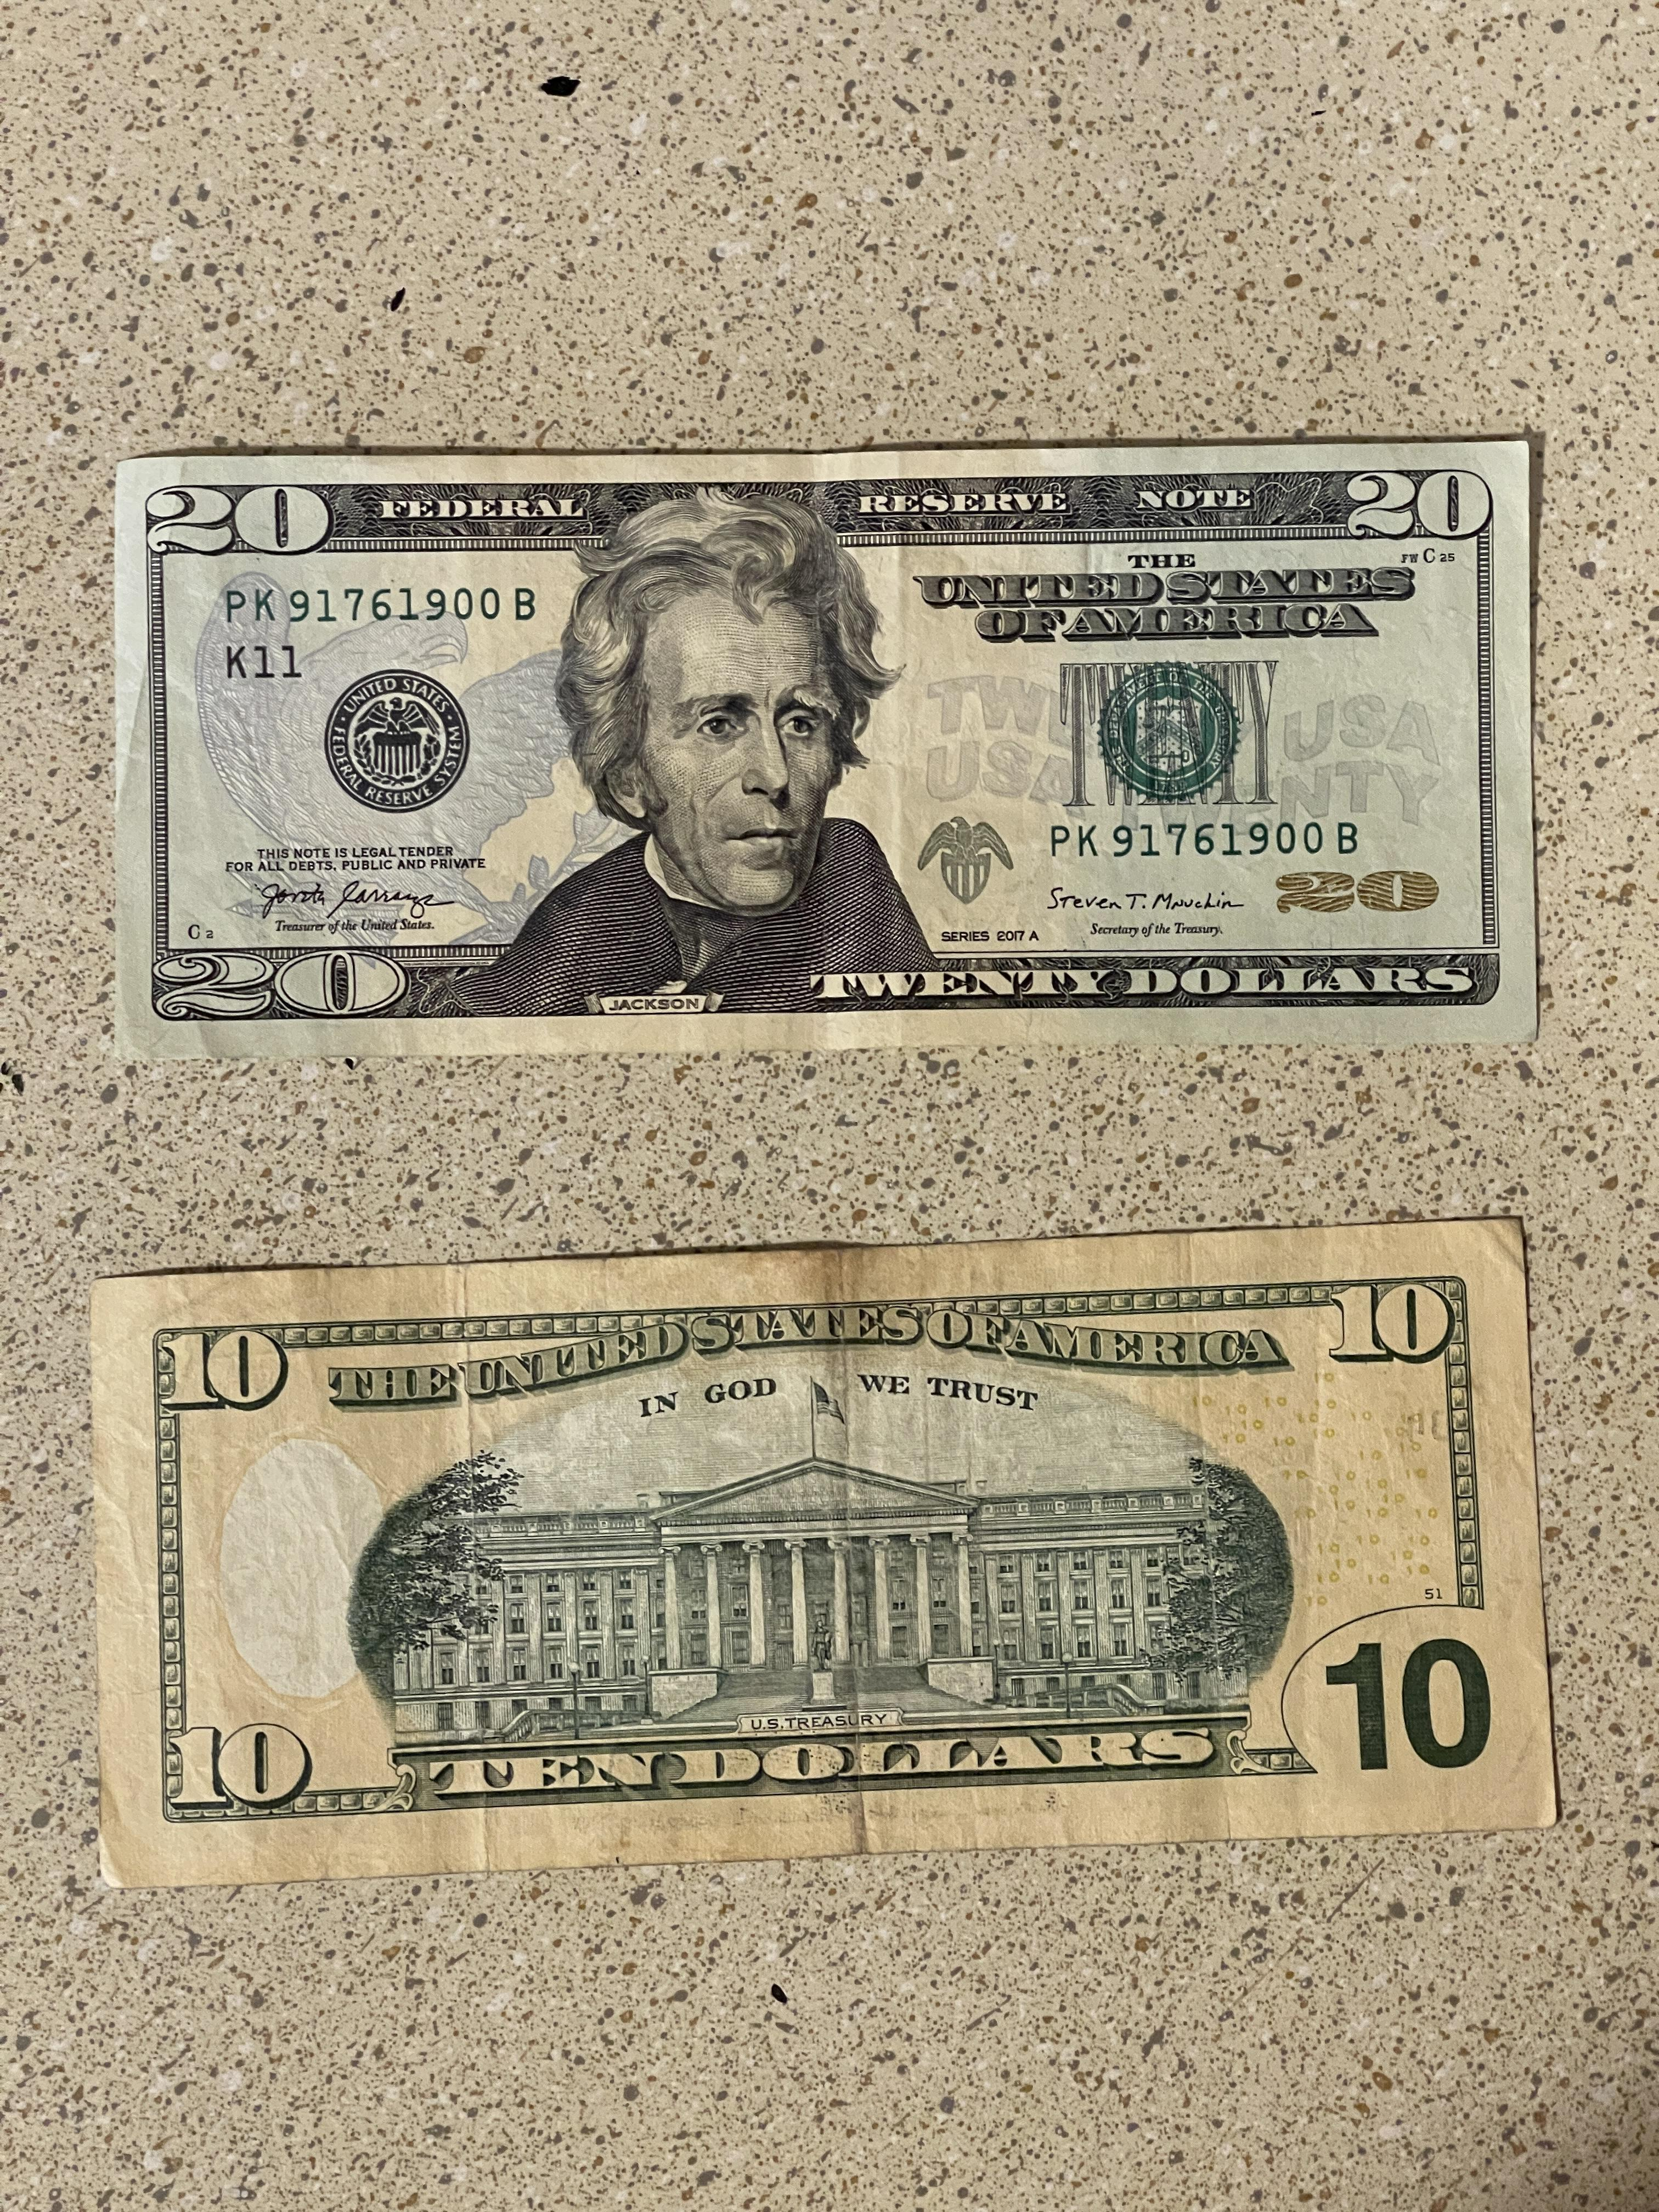TenBill: (84, 1211, 1567, 1895)
TwentyBill: (96, 434, 1542, 1062)
